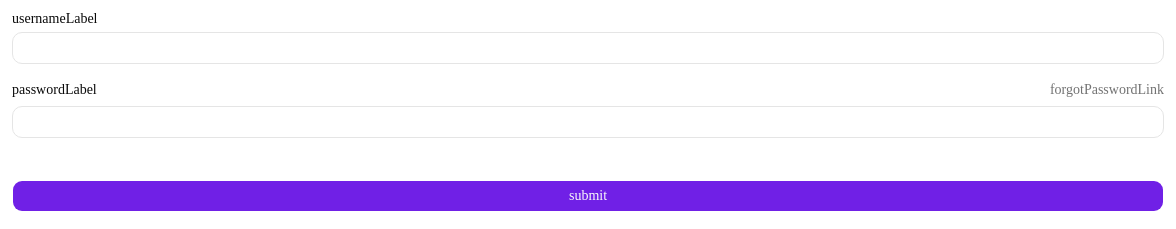
Scenario: LoginForm › shows an invalid-credentials message on 401 without redirecting
The width and height of the screenshot is (1176, 229).
Type "someuser" into the field labelled "usernameLabel".
click(588, 48); type("someuser")  # box top-left (12, 32), bottom-right (1164, 64)
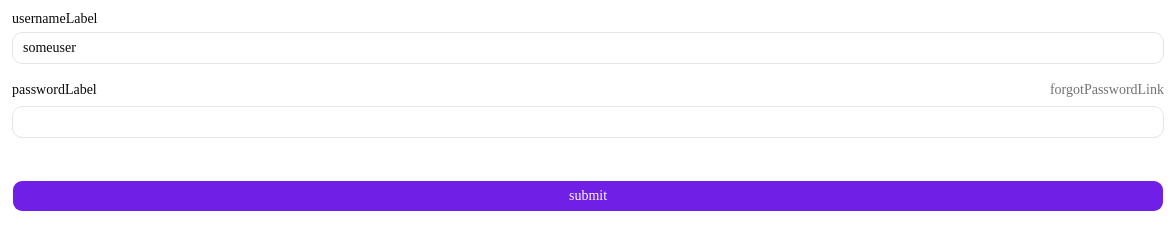
Type "somepassword" into the password field labelled "passwordLabel".
click(588, 122); type("somepassword")  # box top-left (12, 106), bottom-right (1164, 138)
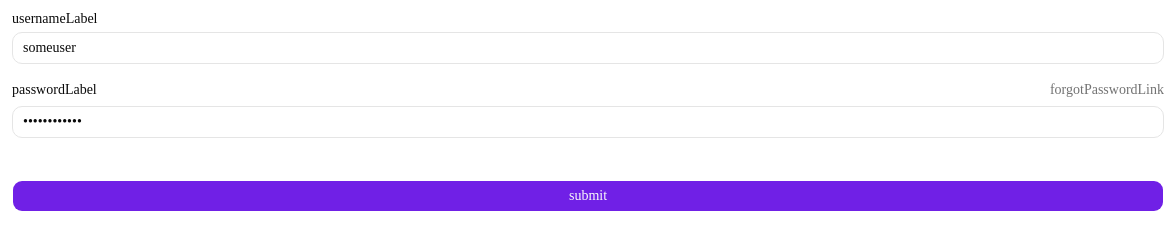
Click the button "submit".
click(588, 196)  # box top-left (12, 180), bottom-right (1164, 212)
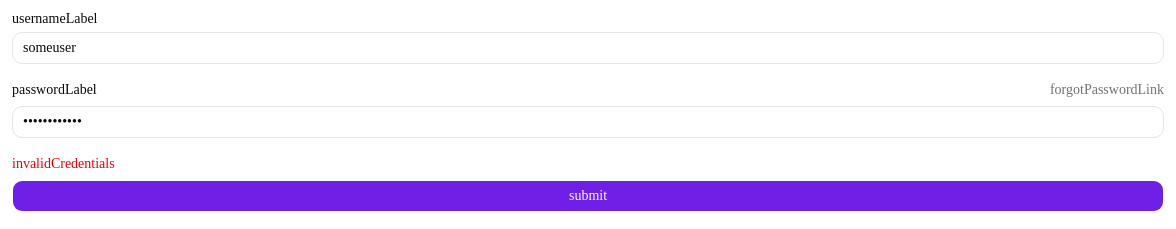
expect the text "invalidCredentials" is shown: met, box top-left (12, 156), bottom-right (115, 171)
